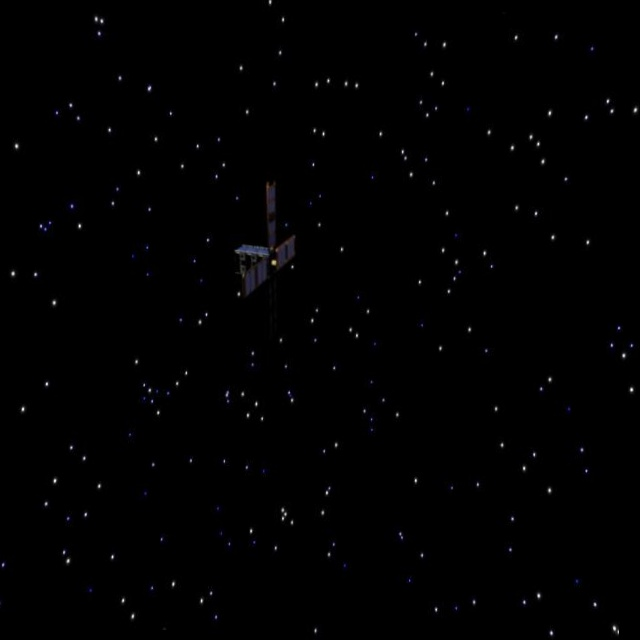satellite: (217, 180, 306, 304)
